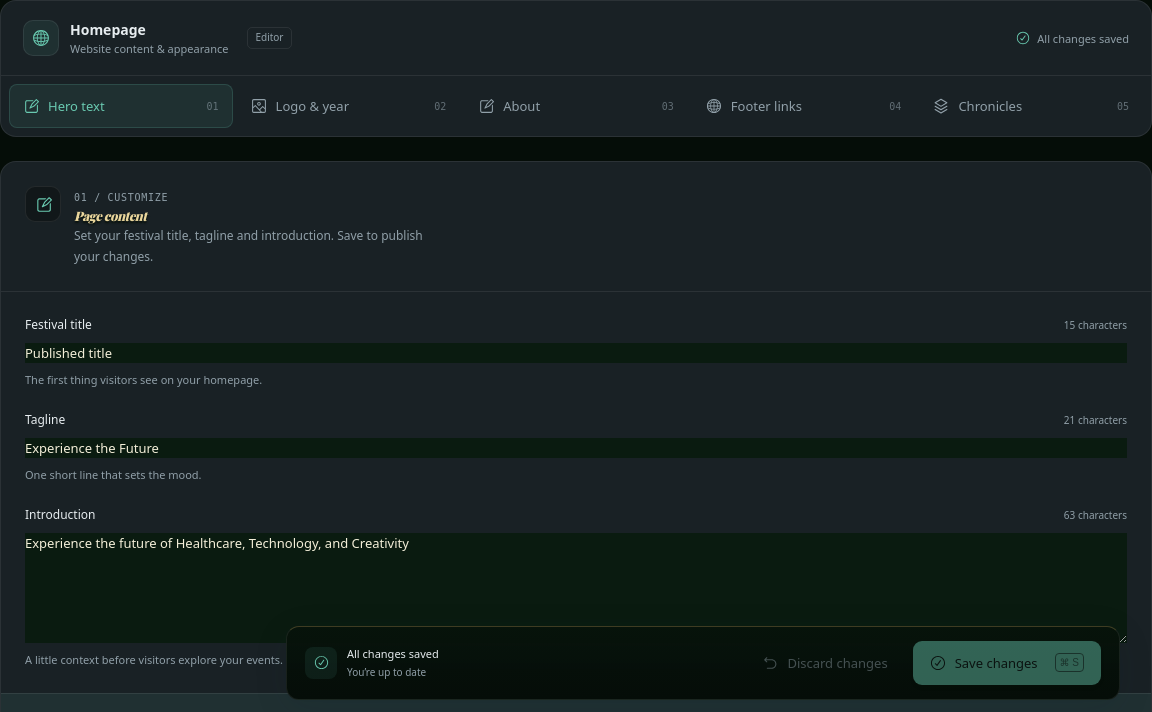
Test case: handles malformed JSON and invalid primitive drafts as clean saved content
This screenshot has width=1152, height=712.
Later steps or results of the test are not shown.
Expected: the button "Save changes ⌘ S" is disabled, left=913, top=641, right=1101, bottom=685
What coordinates should you click on to do the following:
click the button "About 03"
I would click on:
 (576, 106)
Its box is left=464, top=84, right=688, bottom=128.
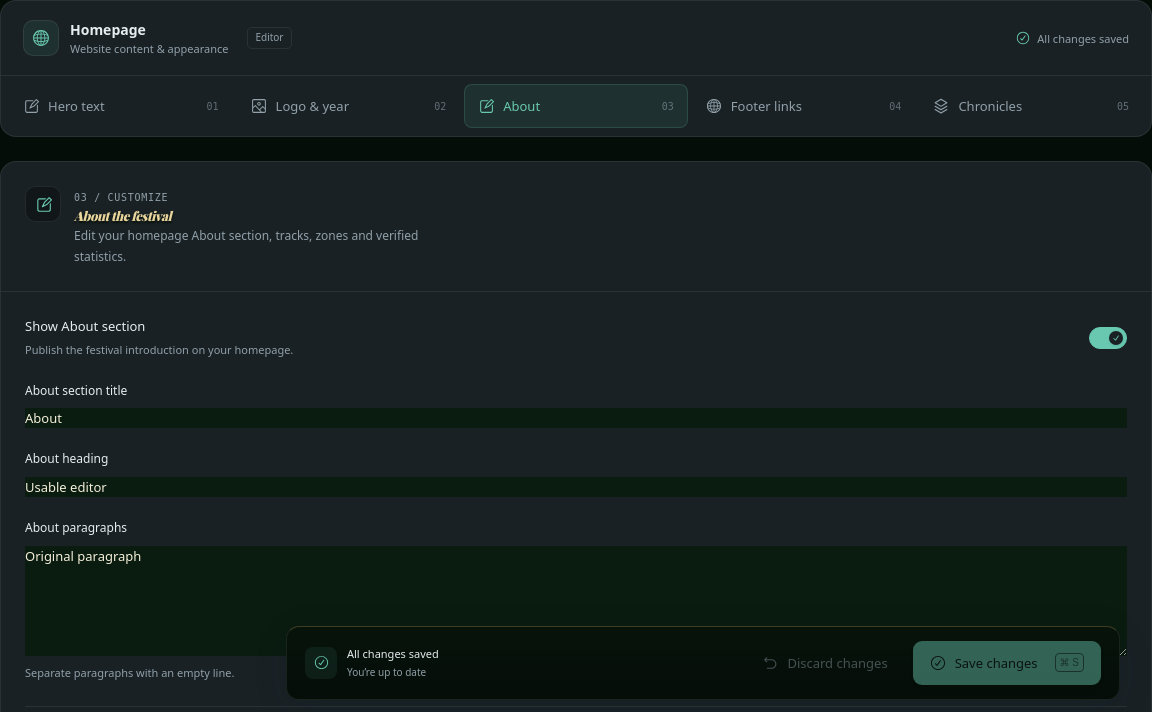
Now the label "About heading" is shown, box left=25, top=450, right=108, bottom=469
